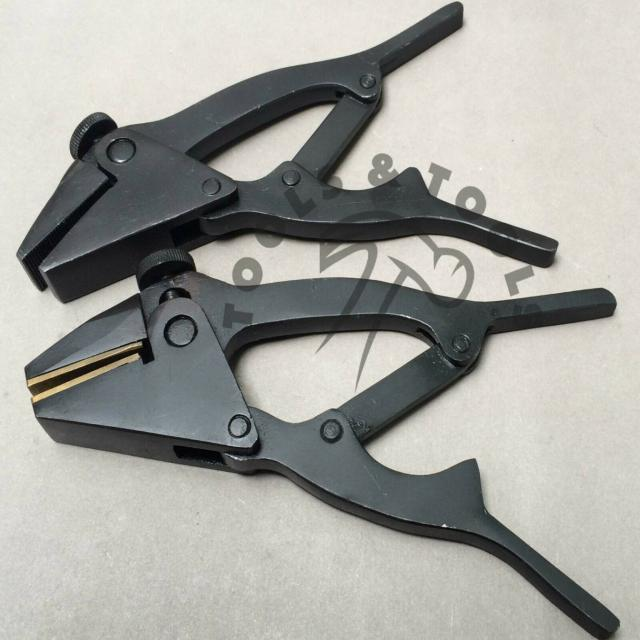pliers: (16, 255, 630, 640), (13, 0, 561, 309)
